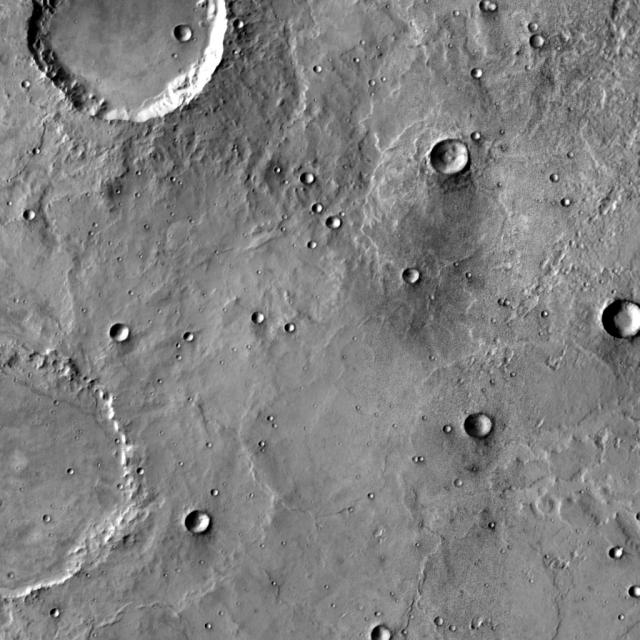crater: (1, 348, 127, 593), (27, 0, 232, 129), (603, 300, 640, 339), (431, 138, 468, 174), (464, 413, 492, 438), (185, 511, 210, 534), (110, 323, 130, 342), (370, 625, 391, 640), (174, 25, 192, 42), (403, 268, 419, 284), (598, 200, 616, 214), (28, 353, 42, 368), (530, 34, 544, 48), (326, 217, 341, 230), (480, 0, 496, 12), (300, 172, 314, 185), (252, 312, 264, 324), (610, 547, 622, 559), (598, 204, 610, 215), (629, 586, 640, 598), (52, 360, 63, 371), (471, 619, 482, 629), (471, 68, 482, 78), (24, 210, 35, 220), (124, 474, 134, 484), (560, 32, 570, 42), (373, 528, 383, 538), (312, 203, 322, 213), (434, 616, 444, 626), (184, 332, 194, 342), (234, 20, 244, 30), (528, 22, 538, 31), (50, 608, 59, 618), (285, 323, 294, 333), (471, 131, 480, 140), (561, 198, 570, 206), (313, 65, 322, 73), (536, 418, 543, 428), (588, 215, 598, 222), (576, 242, 584, 250), (443, 425, 451, 433), (454, 479, 462, 487), (550, 174, 558, 182), (308, 240, 316, 248), (21, 81, 30, 88), (48, 71, 56, 78), (570, 551, 578, 558), (137, 467, 144, 475), (43, 515, 51, 522), (581, 310, 588, 317), (493, 337, 500, 344), (562, 561, 569, 568), (211, 489, 218, 496), (198, 21, 206, 27), (368, 80, 376, 86), (448, 625, 456, 631), (568, 240, 576, 246), (32, 148, 40, 154), (631, 53, 638, 59), (550, 560, 556, 567), (614, 439, 620, 446), (293, 230, 300, 236), (503, 300, 510, 306), (67, 468, 74, 474), (603, 518, 609, 524), (488, 350, 494, 356), (270, 421, 276, 427), (630, 444, 636, 450), (316, 523, 322, 529), (422, 169, 428, 175), (576, 231, 582, 237), (614, 437, 620, 443), (469, 356, 475, 362), (357, 604, 363, 610), (525, 65, 531, 71), (418, 456, 424, 462), (610, 231, 616, 237), (453, 10, 459, 16), (170, 176, 176, 182), (8, 573, 14, 579), (612, 268, 618, 274), (374, 611, 380, 617), (401, 629, 407, 635), (282, 179, 288, 185), (542, 311, 548, 317), (206, 442, 212, 448), (128, 290, 134, 296), (205, 623, 211, 629), (618, 614, 624, 620), (274, 167, 280, 173), (415, 457, 422, 462), (573, 265, 578, 271), (618, 266, 623, 272), (581, 287, 587, 292), (458, 378, 463, 384), (598, 459, 604, 464), (232, 147, 238, 152), (429, 294, 434, 300), (498, 299, 503, 305), (308, 211, 314, 216), (583, 282, 589, 287), (232, 50, 238, 55), (567, 152, 573, 157), (381, 76, 386, 82), (339, 211, 344, 217), (490, 318, 496, 323), (330, 603, 336, 608), (267, 416, 273, 421), (135, 192, 140, 198), (175, 568, 181, 573), (93, 222, 98, 228), (408, 614, 414, 619), (282, 214, 287, 220), (280, 227, 286, 232), (353, 58, 359, 63), (7, 200, 12, 206), (117, 484, 123, 489), (136, 170, 141, 176), (259, 441, 264, 447), (218, 611, 224, 616), (368, 493, 373, 499), (488, 523, 494, 528), (88, 231, 94, 236), (614, 443, 619, 448), (564, 270, 569, 275), (501, 506, 506, 511), (499, 129, 504, 134), (484, 583, 489, 588), (172, 53, 177, 58), (590, 287, 595, 292), (510, 372, 515, 377), (412, 457, 417, 462), (352, 336, 357, 341), (360, 40, 365, 45), (81, 308, 86, 313), (144, 224, 149, 229), (271, 581, 276, 586), (348, 507, 353, 512), (466, 273, 471, 278), (598, 237, 603, 242), (612, 289, 617, 294), (176, 355, 181, 360), (636, 172, 640, 178), (556, 46, 560, 52), (637, 512, 640, 520), (114, 439, 120, 443), (190, 218, 194, 224), (618, 396, 623, 400), (596, 522, 601, 526), (562, 350, 566, 355), (157, 504, 162, 508), (222, 482, 226, 487), (569, 107, 573, 112), (327, 58, 332, 62), (302, 366, 307, 370), (28, 373, 32, 378), (239, 52, 244, 56), (423, 29, 428, 33), (507, 322, 511, 327), (389, 592, 394, 596), (415, 542, 419, 547), (342, 165, 347, 169), (448, 44, 453, 48), (22, 300, 27, 304), (497, 182, 501, 187), (48, 533, 52, 538), (222, 308, 227, 312), (249, 493, 253, 498), (392, 424, 397, 428), (118, 202, 123, 206), (178, 181, 183, 185), (232, 347, 236, 352), (490, 379, 494, 384), (92, 633, 97, 637), (501, 549, 505, 554), (430, 355, 434, 360), (579, 490, 584, 494), (281, 541, 286, 545), (579, 210, 583, 215), (158, 379, 163, 383), (256, 270, 261, 274), (54, 400, 58, 405), (324, 585, 329, 589), (199, 560, 204, 564), (545, 554, 549, 559), (176, 343, 180, 348), (599, 280, 604, 284), (246, 345, 251, 349), (86, 192, 90, 197), (117, 257, 122, 261), (116, 190, 121, 194), (272, 424, 277, 428), (398, 234, 402, 238), (478, 273, 482, 277), (588, 76, 592, 80), (504, 42, 508, 46), (632, 603, 636, 607), (491, 626, 495, 630), (236, 601, 240, 605), (386, 5, 390, 9), (551, 201, 555, 205), (204, 131, 208, 135), (288, 300, 292, 304), (624, 479, 628, 483), (508, 546, 512, 550), (202, 293, 206, 297), (537, 199, 541, 203), (510, 306, 514, 310), (299, 386, 303, 390), (19, 488, 23, 492), (165, 219, 169, 223), (150, 392, 154, 396), (138, 295, 142, 299), (138, 254, 142, 258), (316, 295, 320, 299), (75, 436, 79, 440), (425, 161, 429, 165), (464, 410, 468, 414), (625, 596, 629, 600), (68, 198, 72, 202), (629, 181, 633, 185), (173, 166, 177, 170), (376, 46, 380, 50), (243, 233, 247, 237), (292, 244, 296, 248), (346, 118, 350, 122), (359, 633, 363, 637), (51, 410, 55, 414), (422, 416, 426, 420), (261, 448, 265, 452), (164, 574, 168, 578), (156, 240, 160, 244), (27, 150, 31, 154), (7, 178, 11, 182), (370, 92, 374, 96), (582, 556, 586, 560), (356, 406, 360, 410), (100, 192, 104, 196), (220, 360, 224, 364), (175, 310, 179, 314), (148, 320, 152, 324), (170, 212, 174, 216), (539, 332, 543, 336), (86, 574, 90, 578), (214, 250, 218, 254), (529, 579, 533, 583), (364, 617, 368, 621), (454, 262, 458, 266), (179, 462, 183, 466), (188, 398, 192, 402), (14, 299, 18, 303), (260, 544, 264, 548), (157, 309, 161, 313), (424, 0, 429, 3), (252, 364, 255, 368), (550, 519, 554, 522), (214, 203, 218, 206), (109, 241, 112, 245), (98, 462, 100, 467), (99, 293, 102, 296), (60, 508, 64, 510), (588, 542, 592, 544)
